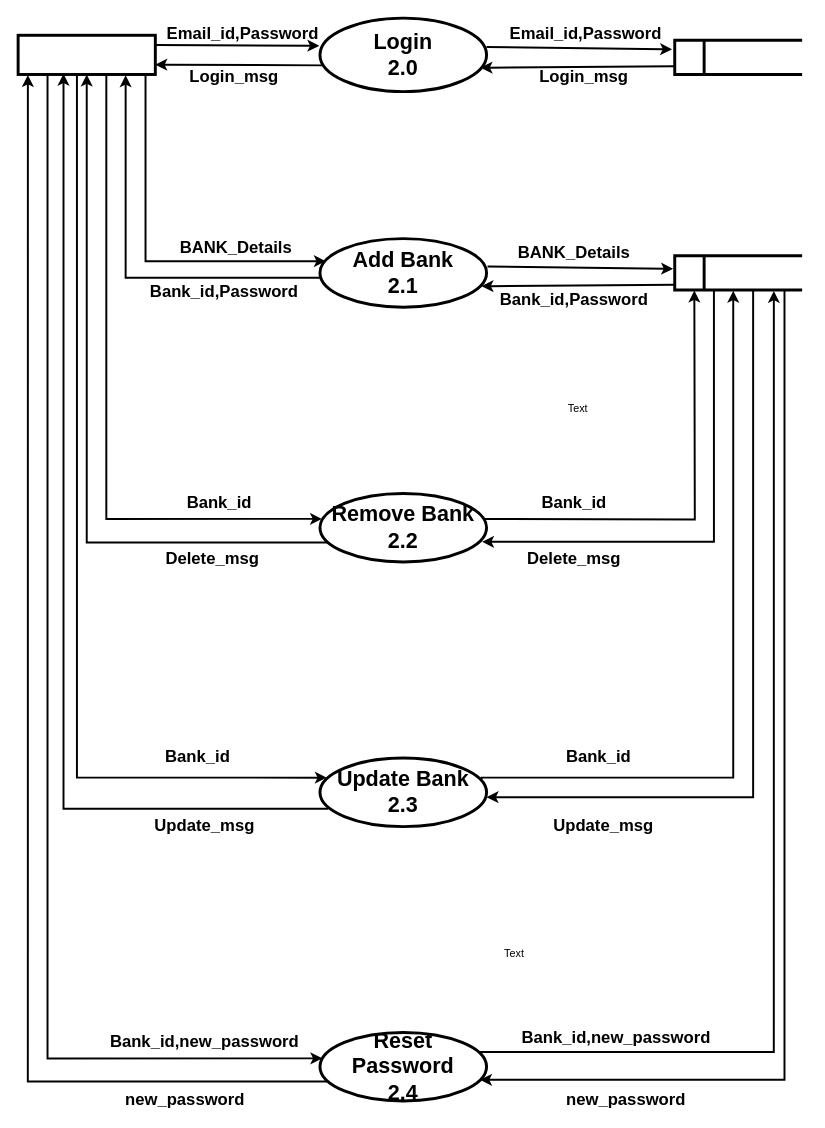
This 825x1128 diagram has some shape labels left out. The shapes that lost their labels are listed below. From the top down, each one's centre as x and y in pixels, then its label:
the point at 86,54: ADMIN
the point at 738,56: ADMIN_MST
the point at 738,272: BANK
